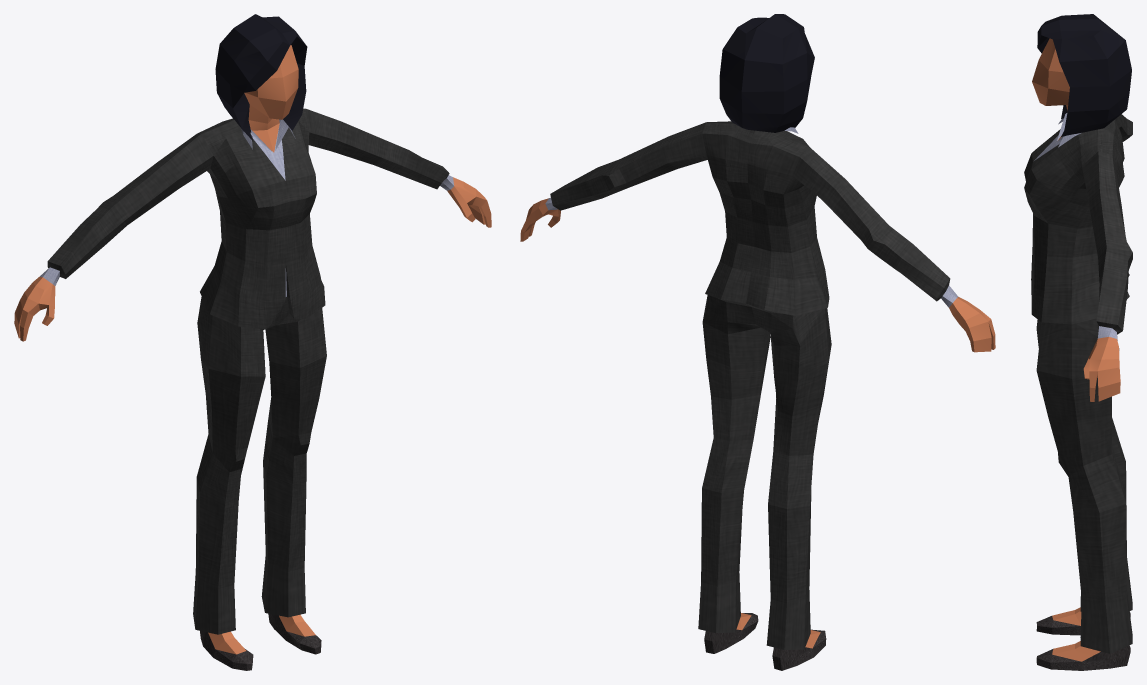
File: office lady.fbx
The picture shows the model from 3 angles, left to right: view 1: azimuth 30°, elevation 25°; view 2: azimuth 150°, elevation 25°; view 3: azimuth 270°, elevation 25°; orthographic projection.
Visible parts, largest first — view 1: Object_6619; view 2: Object_6619; view 3: Object_6619.
Part boxes in pixels (x1=…): Object_6619: x1=14, y1=14, x2=491, y2=670; Object_6619: x1=520, y1=14, x2=995, y2=670; Object_6619: x1=1024, y1=14, x2=1132, y2=670.
Size of the model in its own units: 1.76 by 2.24 by 0.3508.
